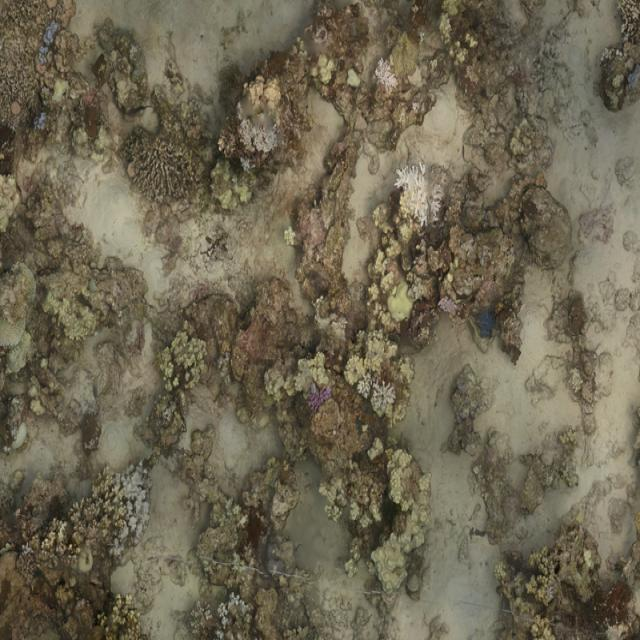Bleached Coral: (385, 157, 454, 228)
